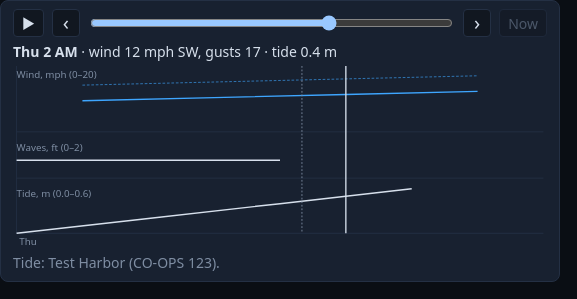
Test: ForecastTimeline › scrubbing sets the shared time, steps by the hour, and Now goes back to live
The width and height of the screenshot is (577, 299).
Set the slider named "Forecast hour" to "0": [98, 23] box [90,15,453,31]
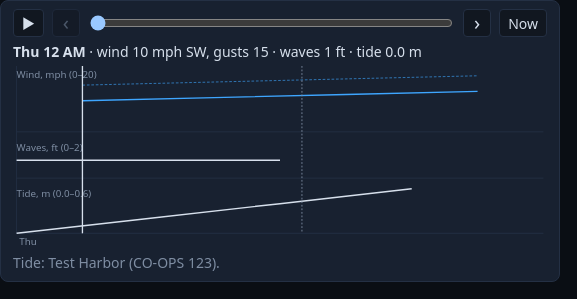
Check: the button named "Previous forecast hour" is disabled, box [52,9,80,37]
Click the button named "Next forecast hour": [477, 23] box [463,9,491,37]
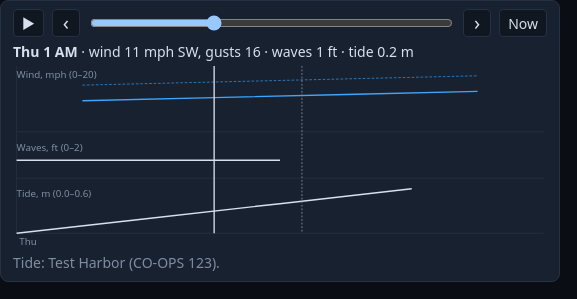
Click the button "Now": [523, 23] box [499,9,547,37]
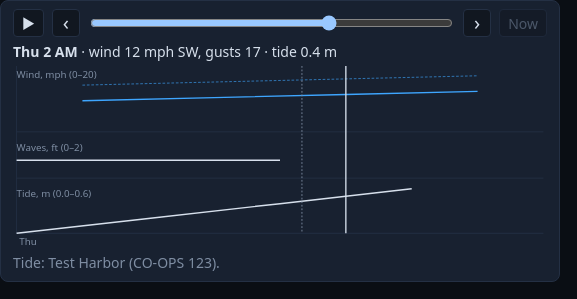
Check: the button "Now" is disabled, box [499,9,547,37]
